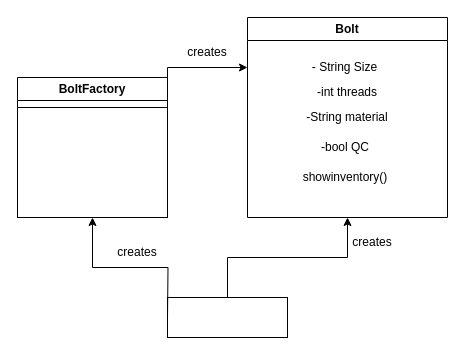
This 465x355 diagram has some shape labels left out. The centre of each missing label's shape, as x and y in pixels:
"Client" goes at point (227, 317).
"getBolt(String size)" goes at point (92, 162).
